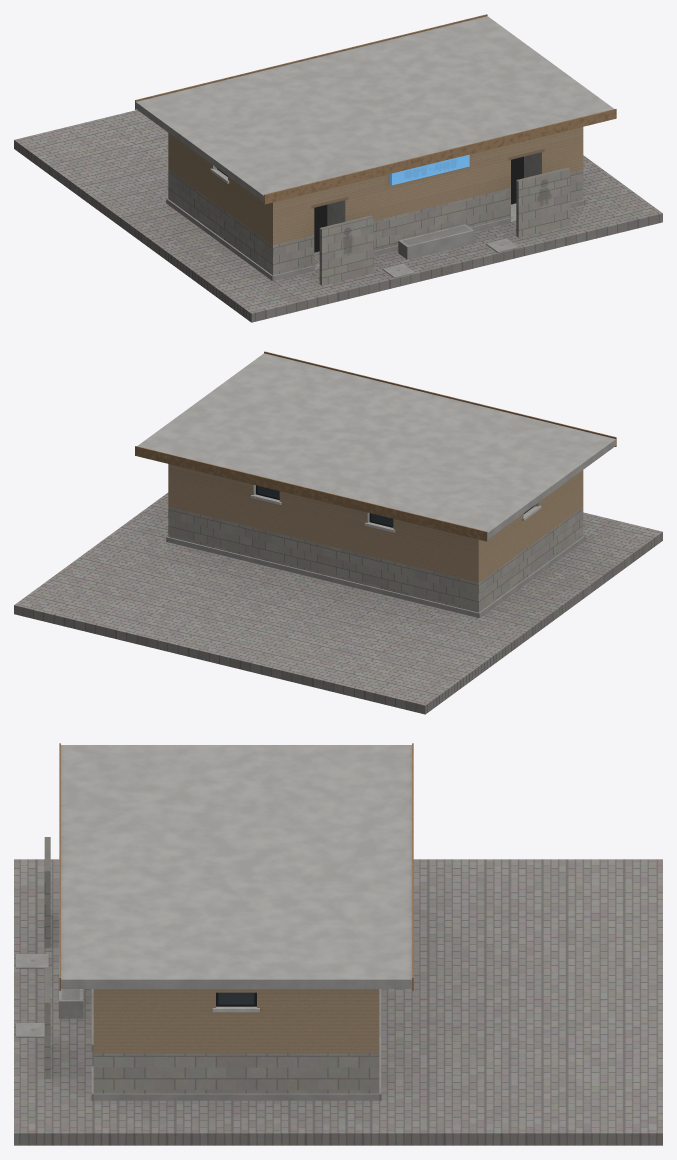
The model's file is IlsanToilet01_LOD2.fbx.
3 renders of one model, top to bottom at view 1: azimuth 30°, elevation 25°; view 2: azimuth 150°, elevation 25°; view 3: azimuth 270°, elevation 25°, orthographic. The views are drawn at different scales.
Parts seen in each view (by area): view 1: IlsanToilet01_LOD2; view 2: IlsanToilet01_LOD2; view 3: IlsanToilet01_LOD2.
Part boxes in pixels (left/top/right/bottom): IlsanToilet01_LOD2: left=14, top=14, right=662, bottom=322; IlsanToilet01_LOD2: left=14, top=351, right=662, bottom=714; IlsanToilet01_LOD2: left=14, top=743, right=662, bottom=1145.
Size of the model in its own units: 15.9 by 4 by 15.9.
Materials: 1 (1 with a texture image).
